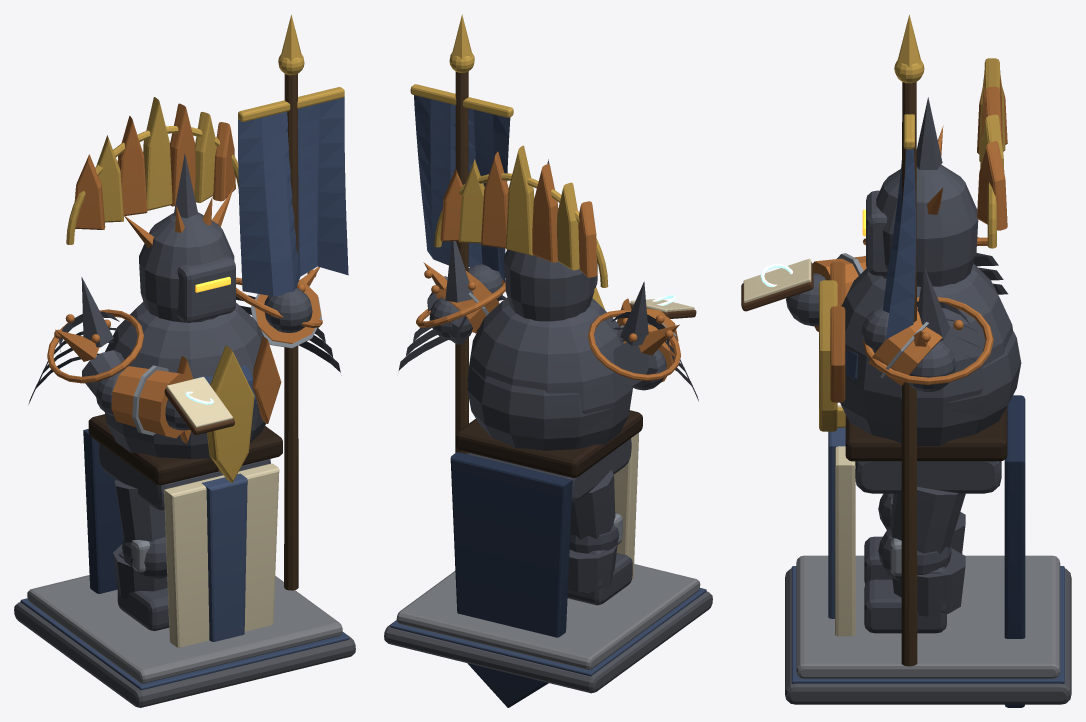
Rendered from priest.glb.
3 views of the same model, side by side, from view 1: azimuth 30°, elevation 25°; view 2: azimuth 150°, elevation 25°; view 3: azimuth 270°, elevation 25° (orthographic). The views are drawn at different scales.
Parts seen in each view (by area): view 1: dark, owner (×2), copper, paper, lstone, brass (×2), stone, dwood, ownerDark, dleather, steel, leather; view 2: dark, ownerDark, lstone, copper, owner (×2), brass (×2), stone, dleather, dwood, paper; view 3: dark, lstone, copper, owner (×2), stone, dwood, brass, paper, ownerDark, dleather, steel, leather.
Part boxes in pixels (bbox=[...]): dark: bbox=[28, 153, 341, 630]; owner (×2): bbox=[20, 97, 349, 690]; copper: bbox=[47, 103, 322, 443]; paper: bbox=[164, 376, 279, 647]; lstone: bbox=[27, 575, 342, 683]; brass (×2): bbox=[66, 14, 344, 482]; stone: bbox=[14, 602, 355, 707]; dwood: bbox=[284, 74, 298, 590]; ownerDark: bbox=[83, 429, 123, 593]; dleather: bbox=[88, 414, 282, 485]; steel: bbox=[131, 294, 321, 572]; leather: bbox=[164, 388, 234, 435]; dark: bbox=[398, 159, 698, 605]; ownerDark: bbox=[450, 452, 572, 707]; lstone: bbox=[396, 564, 700, 669]; copper: bbox=[416, 151, 680, 382]; owner (×2): bbox=[390, 95, 706, 676]; brass (×2): bbox=[410, 14, 608, 309]; stone: bbox=[384, 591, 712, 693]; dleather: bbox=[455, 410, 642, 478]; dwood: bbox=[455, 71, 468, 565]; paper: bbox=[614, 299, 694, 579]; dark: bbox=[786, 97, 1021, 633]; lstone: bbox=[796, 555, 1060, 678]; copper: bbox=[812, 58, 1007, 402]; owner (×2): bbox=[791, 148, 1064, 683]; stone: bbox=[785, 568, 1071, 704]; dwood: bbox=[901, 82, 917, 666]; brass: bbox=[819, 14, 1005, 431]; paper: bbox=[743, 258, 855, 636]; ownerDark: bbox=[1004, 395, 1025, 707]; dleather: bbox=[845, 407, 1007, 461]; steel: bbox=[837, 253, 928, 576]; leather: bbox=[741, 262, 813, 311].
Bounding box in the file's own units: 1.02 × 2.19 × 0.876.
